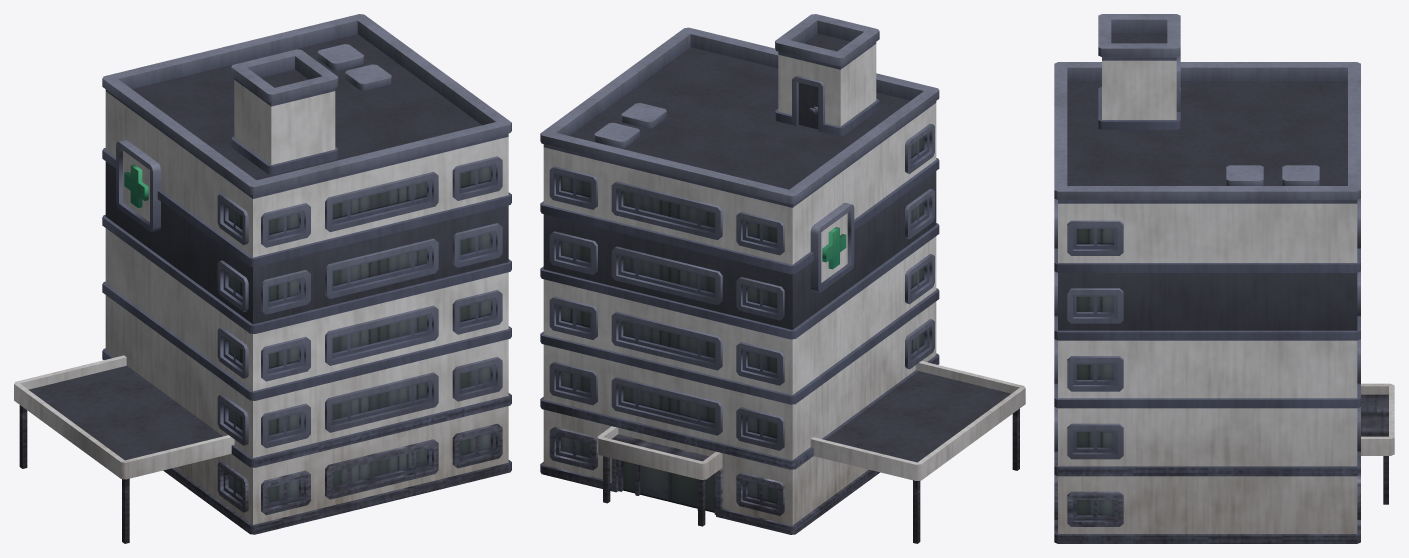
The model's file is building-n-white.glb.
3 renders of one model, left to right at view 1: azimuth 30°, elevation 25°; view 2: azimuth 150°, elevation 25°; view 3: azimuth 270°, elevation 25°, orthographic. The views are drawn at different scales.
Parts seen in each view (by area): view 1: building-n; view 2: building-n; view 3: building-n.
Boxes of the visible parts, x1,y1,x2,y2 form: building-n: (14,14,511,543); building-n: (540,14,1025,543); building-n: (1054,14,1394,543).
Size of the model in its own units: 2.32 by 2.48 by 1.82.
1 material, 1 textured.
